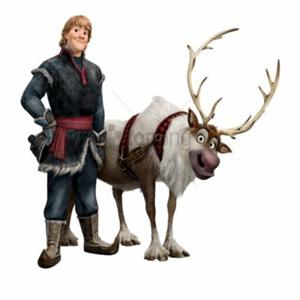sven: (116, 23, 284, 260)
